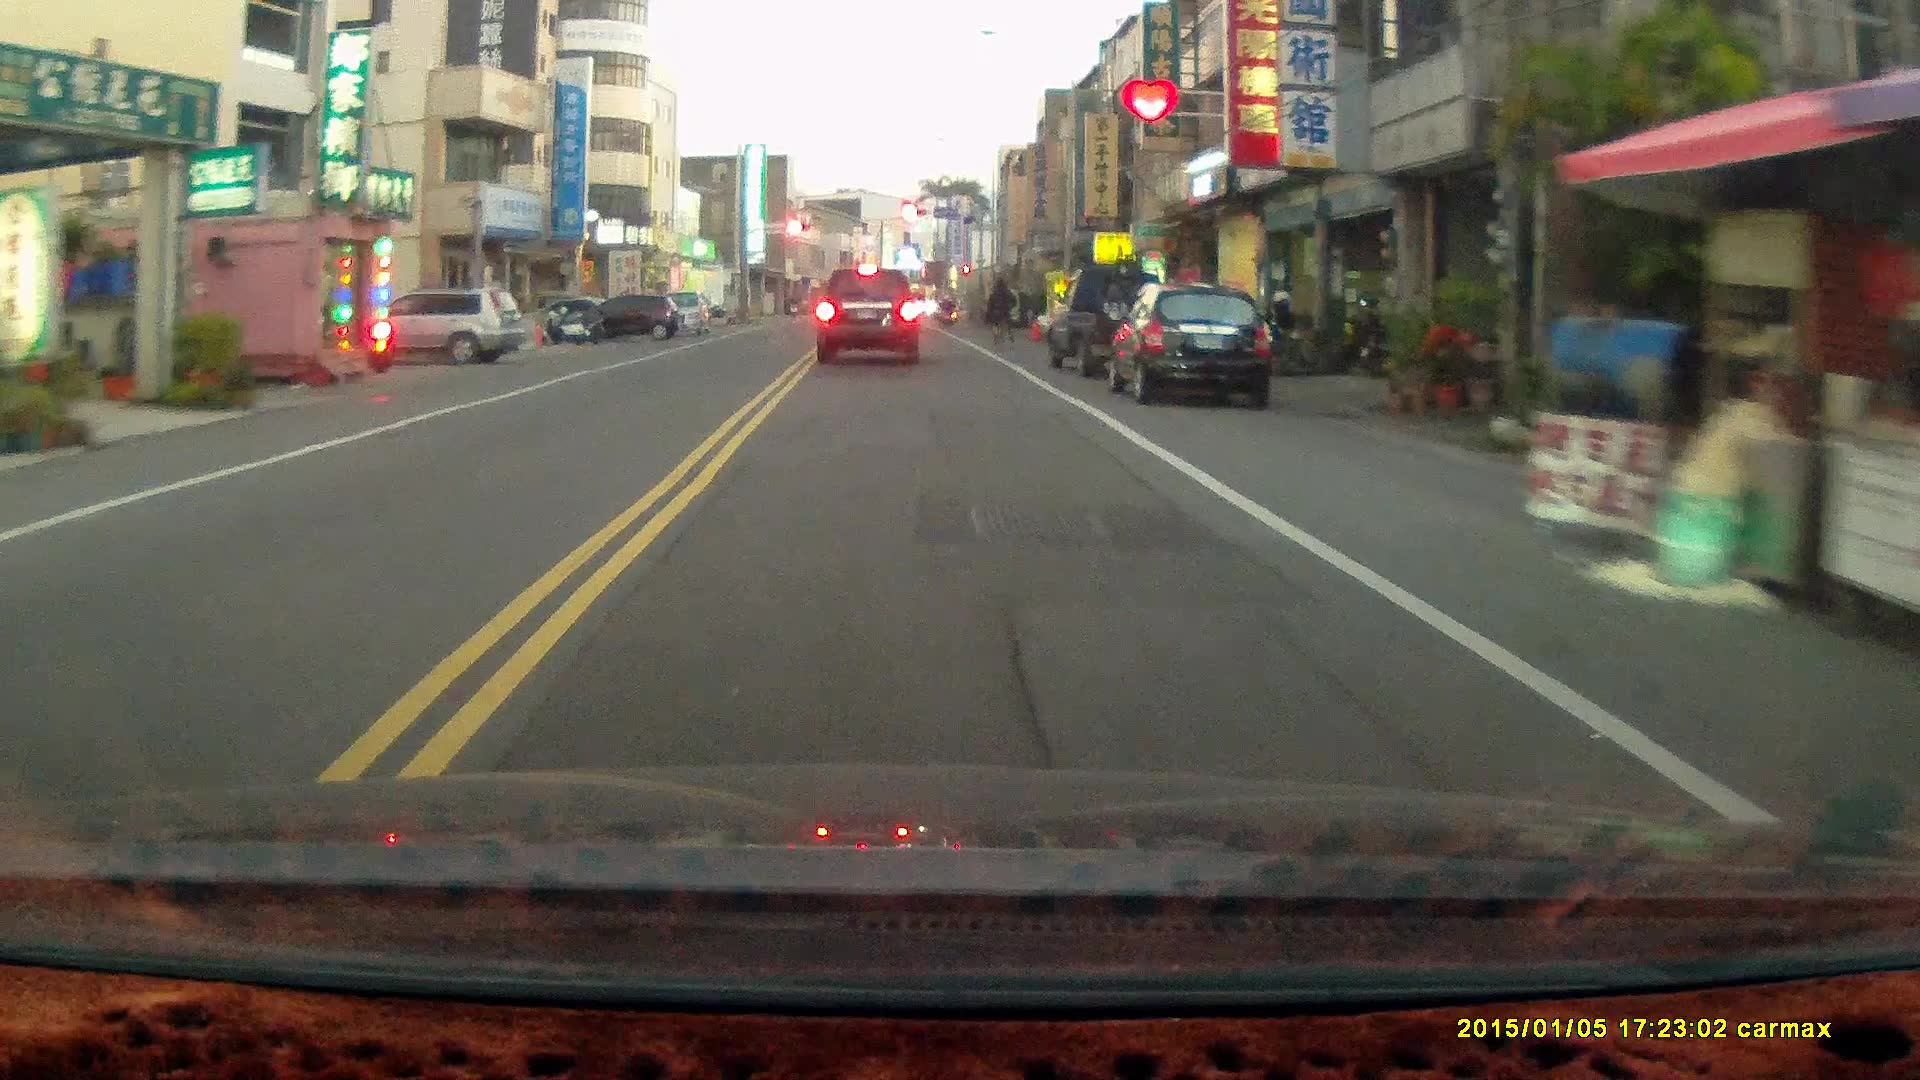rider: (984, 275, 1016, 348)
vehicle: (1114, 281, 1281, 405), (332, 290, 525, 366), (815, 263, 923, 364), (558, 293, 682, 342)
